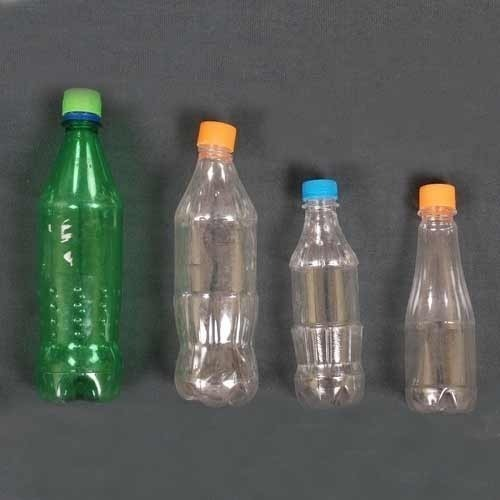plastic_bottle: (29, 79, 130, 410), (163, 117, 266, 412), (281, 174, 373, 416), (397, 178, 488, 420)
